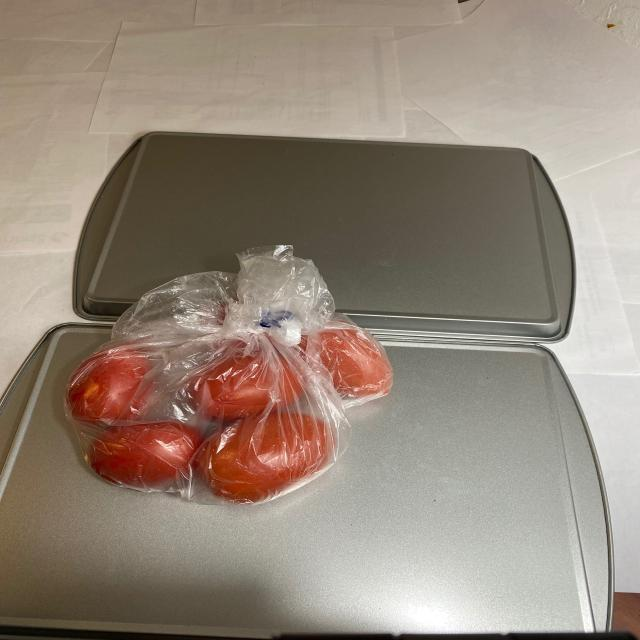tomato: (67, 268, 394, 507)
